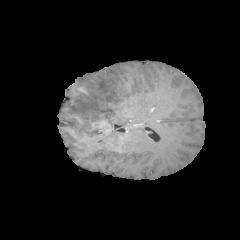glioma: (65, 66, 127, 126)
